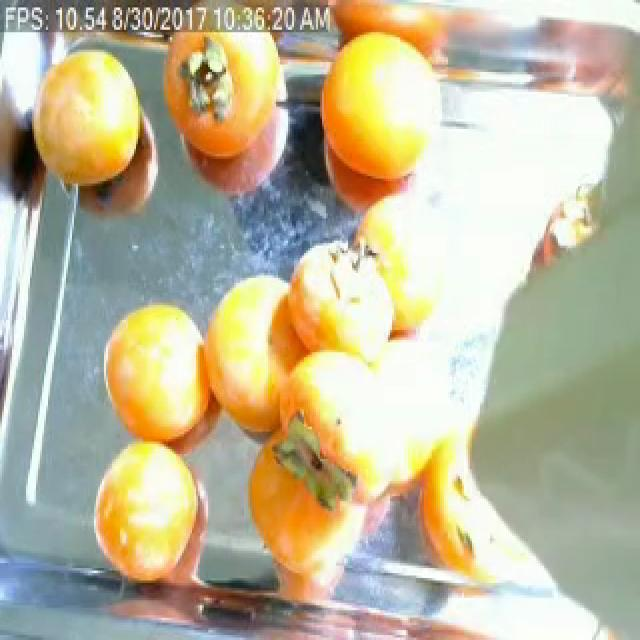Fruit: (82, 429, 230, 598), (20, 32, 162, 204), (94, 290, 220, 462)
